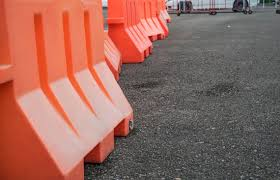barrier: (1, 1, 148, 178), (106, 2, 158, 65)
